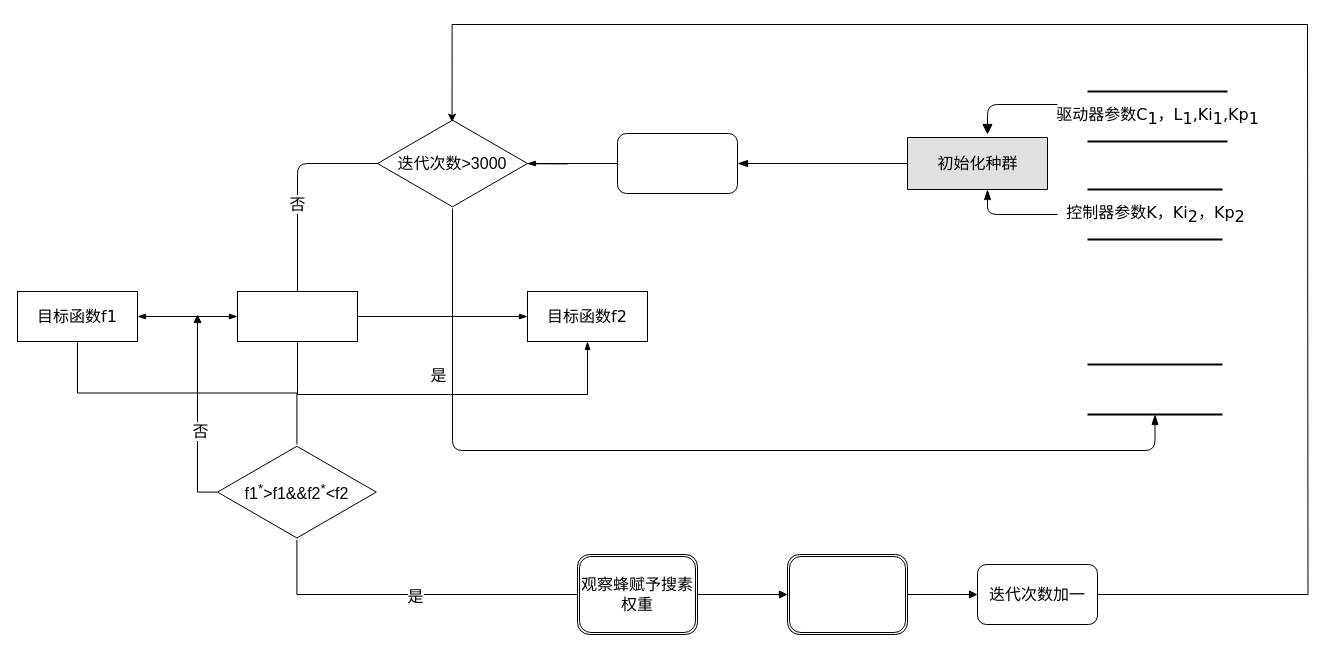
Some shapes in this 1333 by 652 pixel diagram are drawn without their labels. Each missing label, with the centre of its shape:
侦察蜂阶段: (x=847, y=594)
计算种群适应度: (x=677, y=163)
输出优化参数: (x=1154, y=389)
雇佣蜂迭代更新目标函数值: (x=297, y=316)
